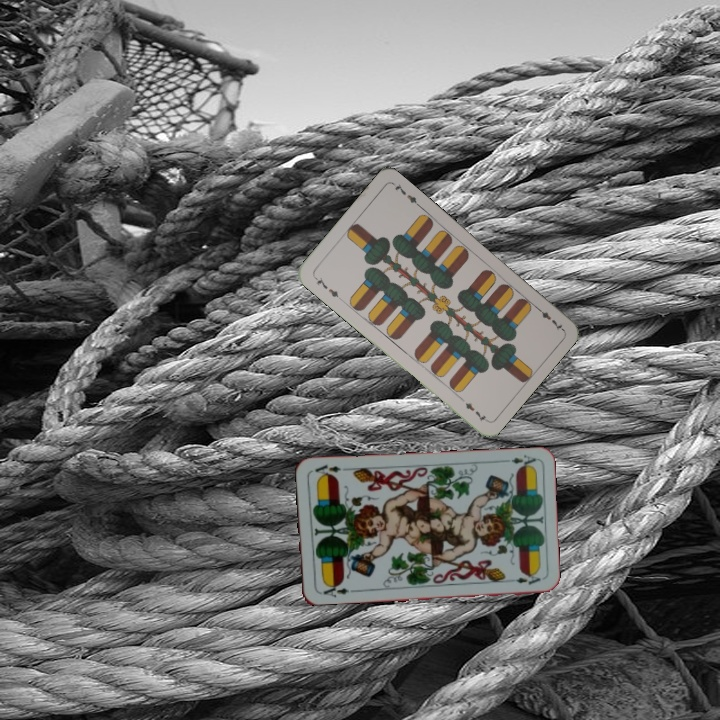E7: (531, 302, 565, 334), (310, 272, 343, 302)
EA: (315, 579, 356, 599), (498, 451, 538, 470)
